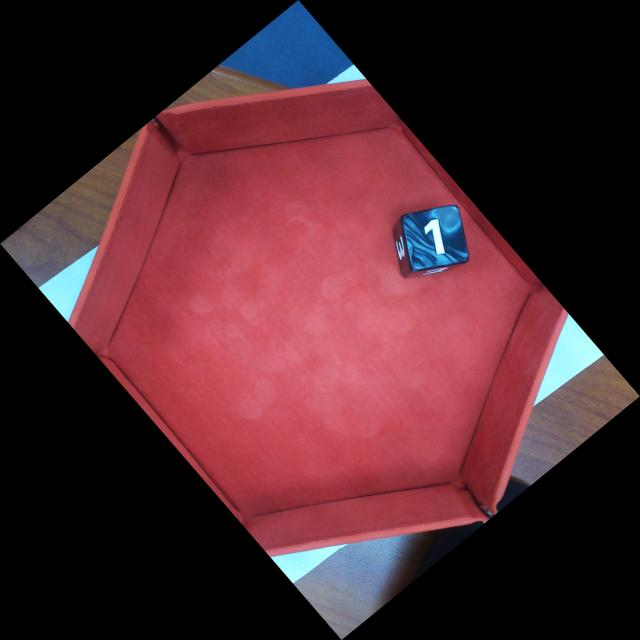dice: (399, 203, 471, 274)
